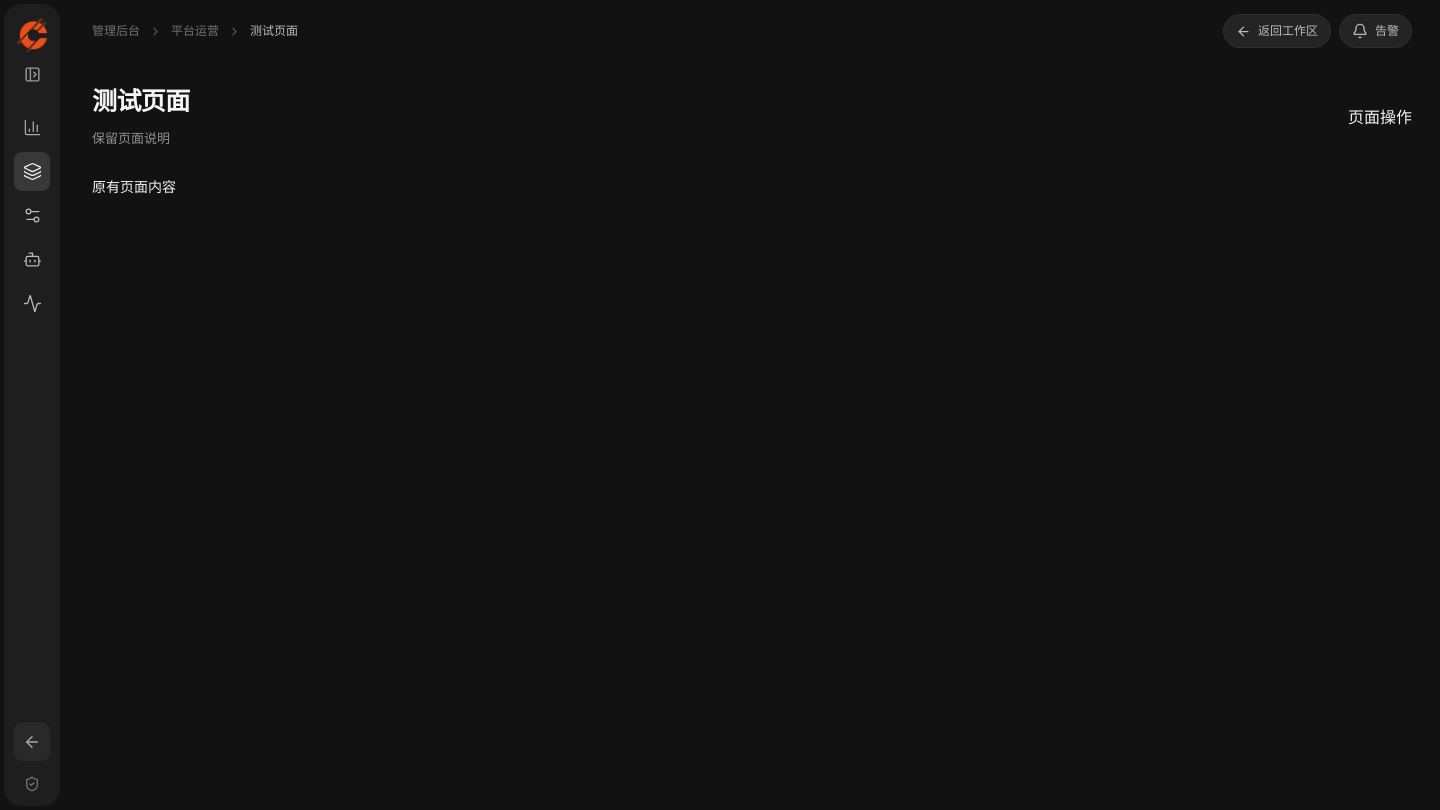
Test: 后台分级导航 › 手机默认图标栏，展开时遮住内容并支持 Escape 关闭
Click the button named "展开后台侧边栏".
click(32, 74)  # box [18,60,46,88]
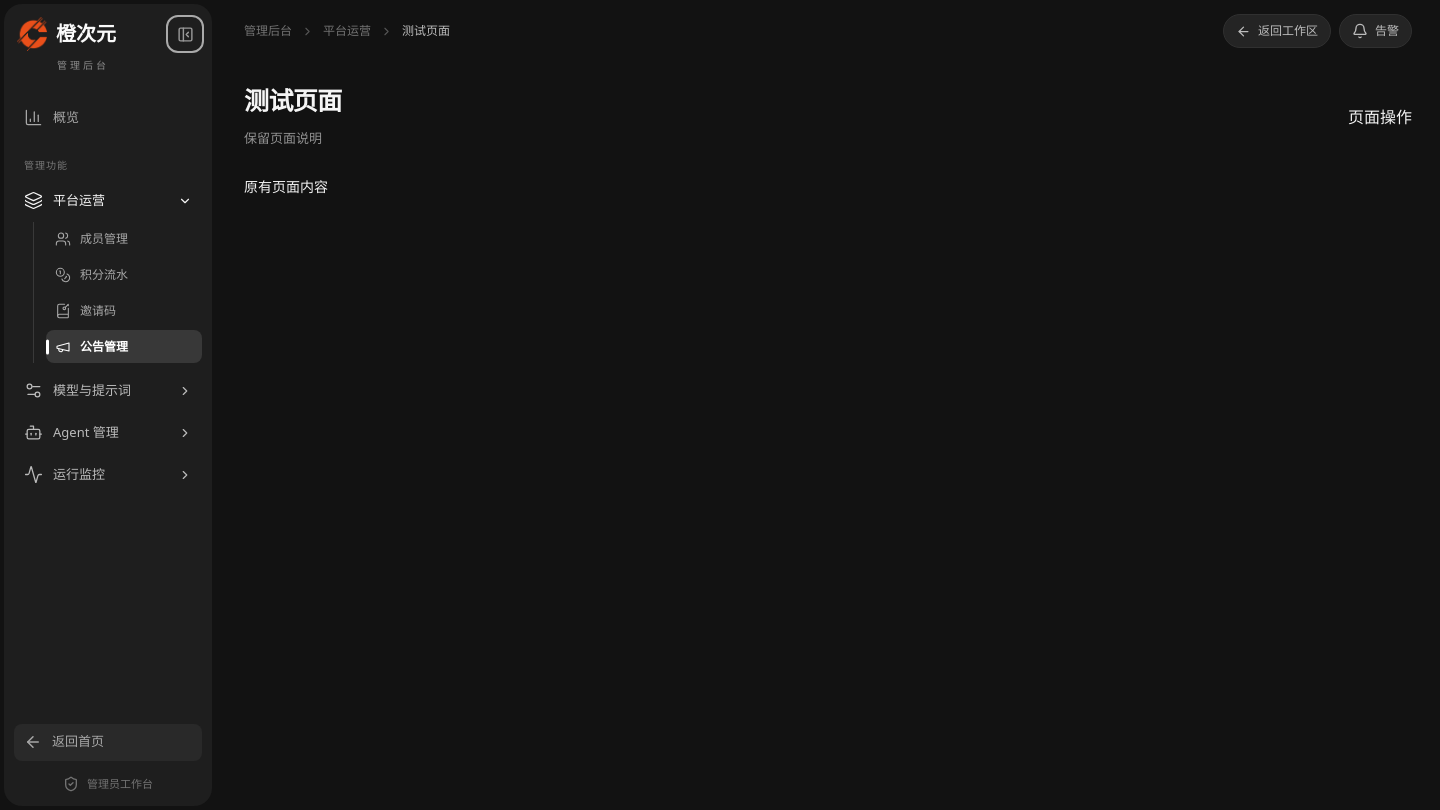
Check: the element showing "管理后台 平台运营 测试页面 返回工作区 告警 测试页面 保留页面说明 页面操作 原有页面内容" has attribute inert
Press Escape in the button named "收起后台侧边栏", box [171,20,199,48]
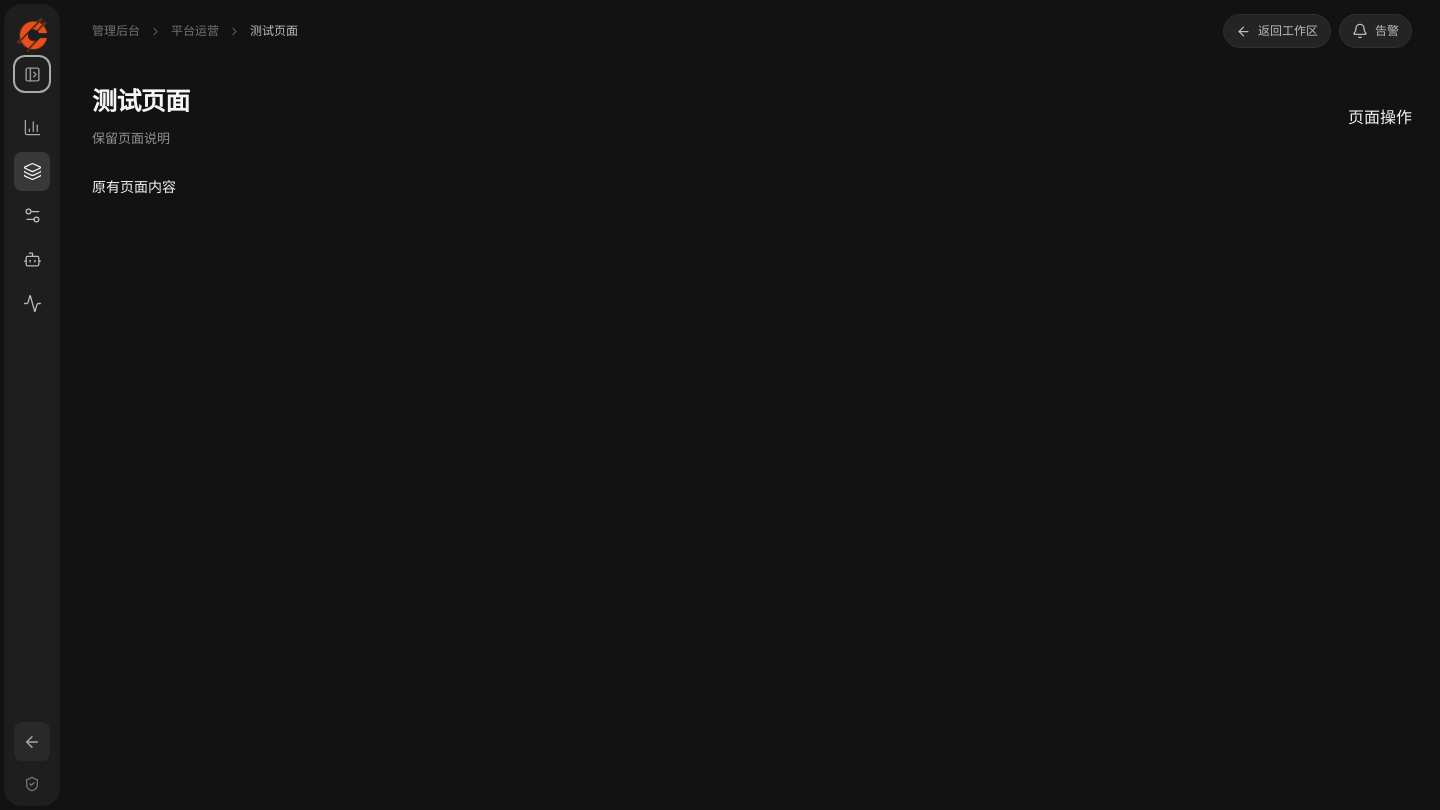
Check: the element showing "管理后台 平台运营 测试页面 返回工作区 告警 测试页面 保留页面说明 页面操作 原有页面内容" does not have attribute inert
